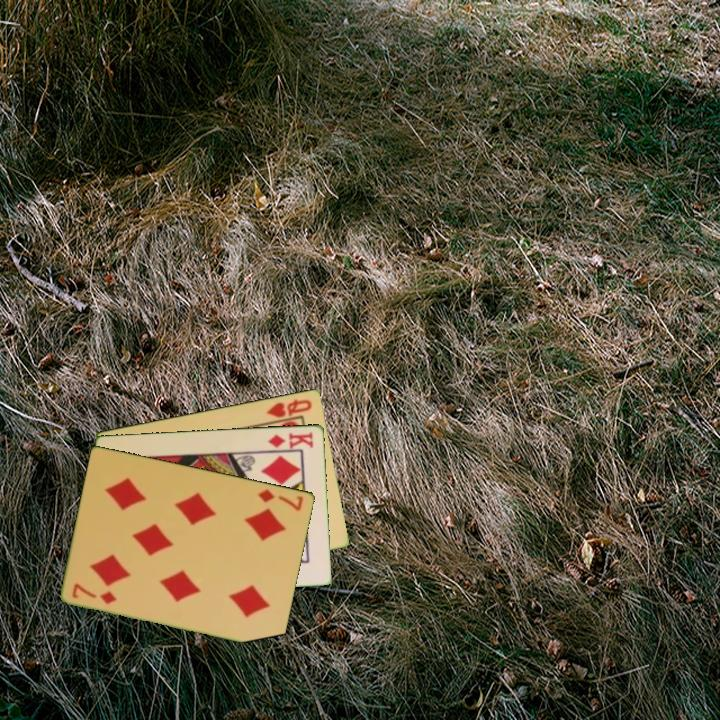7d: (255, 485, 306, 514), (69, 579, 120, 607)
Kd: (265, 428, 316, 451)
Qh: (263, 395, 315, 420)
